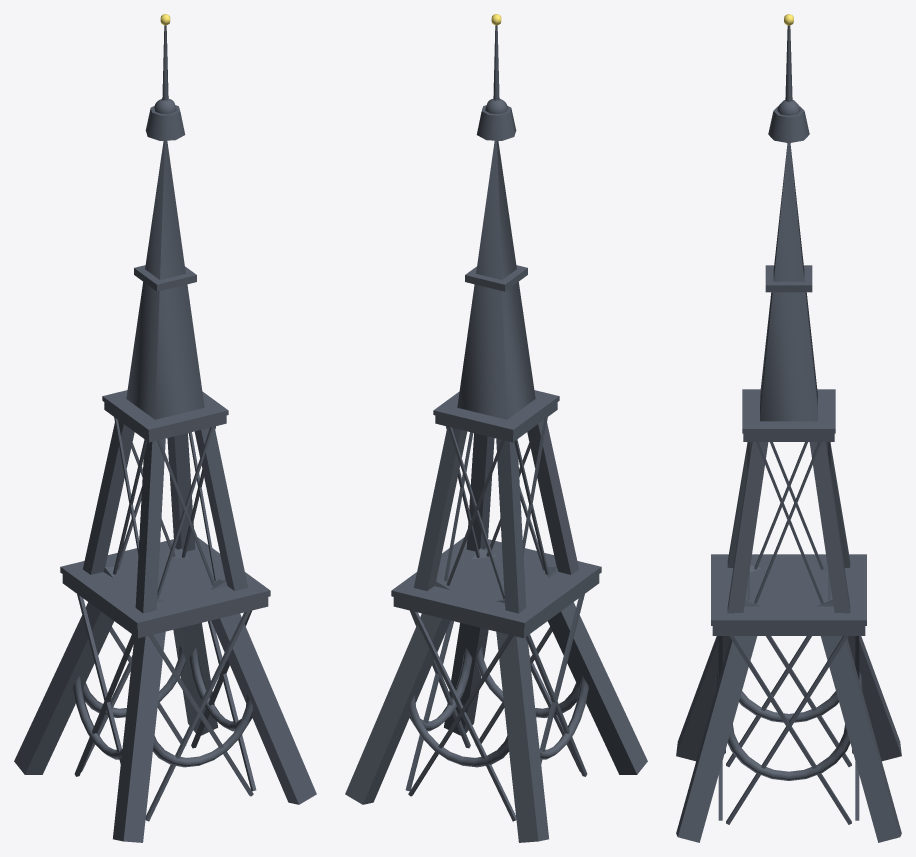
File: france.glb
3 renders of one model, left to right at view 1: azimuth 30°, elevation 25°; view 2: azimuth 150°, elevation 25°; view 3: azimuth 270°, elevation 25°, orthographic.
Visible parts, largest first — view 1: EiffelTower, UpperTower, Leg_NW, Leg_NE, Leg_SW, Col_NW, Col_NE, Col_SW, Leg_SE, Platform_1, Col_SE, Platform_2 (+1 smaller); view 2: EiffelTower, UpperTower, Leg_SW, Leg_SE, Leg_NW, Col_SW, Col_SE, Col_NW, Leg_NE, Platform_1, Col_NE, Platform_2 (+1 smaller); view 3: EiffelTower, UpperTower, Leg_NE, Leg_SE, Col_NE, Col_SE, Leg_NW, Leg_SW, Platform_1, TopDome, Platform_2, Col_NW (+2 smaller).
Part boxes in pixels (x1,y1,x2,y2): EiffelTower: (60, 98, 270, 821); UpperTower: (126, 140, 204, 419); Leg_NW: (113, 600, 165, 842); Leg_NE: (211, 579, 316, 804); Leg_SW: (14, 567, 117, 774); Col_NW: (135, 438, 165, 613); Col_NE: (194, 426, 247, 590); Col_SW: (83, 420, 134, 574); Leg_SE: (165, 548, 217, 735); Platform_1: (62, 574, 268, 638); Col_SE: (167, 433, 195, 551); Platform_2: (104, 402, 226, 442); EiffelTower: (391, 98, 601, 821); UpperTower: (457, 140, 535, 419); Leg_SW: (496, 600, 548, 842); Leg_SE: (345, 579, 450, 804); Leg_NW: (544, 567, 647, 774); Col_SW: (496, 438, 526, 613); Col_SE: (414, 426, 467, 590); Col_NW: (527, 420, 578, 574); Leg_NE: (444, 548, 496, 735); Platform_1: (393, 574, 599, 638); Col_NE: (466, 433, 494, 551); Platform_2: (435, 402, 557, 442); EiffelTower: (711, 100, 866, 824); UpperTower: (760, 143, 817, 421); Leg_NE: (676, 600, 760, 842); Leg_SE: (817, 600, 901, 842); Col_NE: (727, 442, 768, 613); Col_SE: (809, 442, 850, 613); Leg_NW: (676, 565, 760, 761); Leg_SW: (817, 565, 901, 761); Platform_1: (712, 626, 865, 635); TopDome: (768, 106, 809, 143); Platform_2: (743, 433, 834, 441); Col_NW: (727, 442, 751, 567).
Size of the model in its own units: 3.49 by 13.33 by 3.47.
